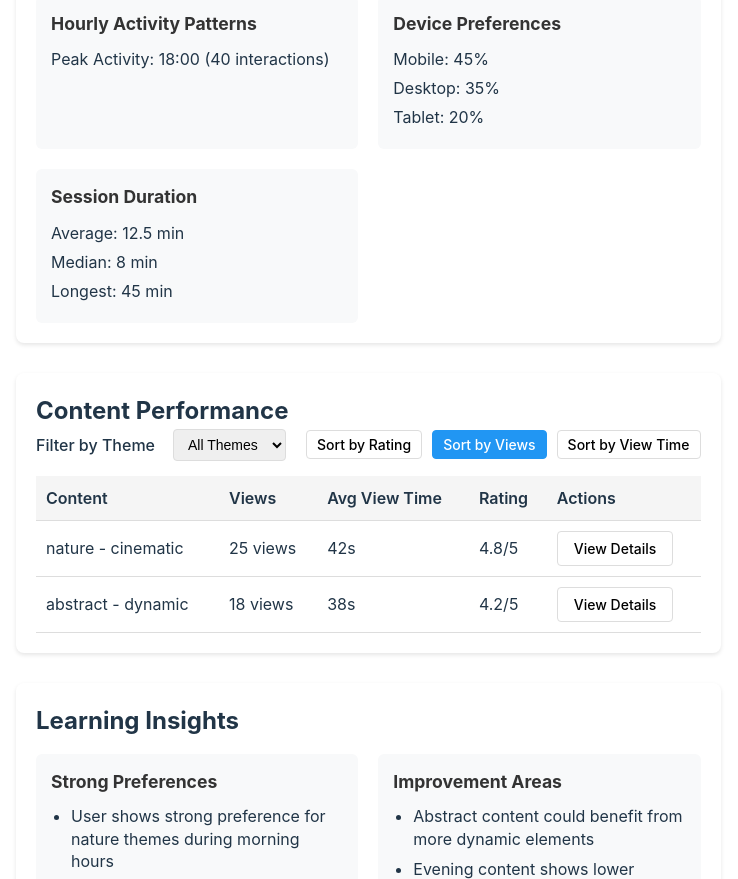
Test: LearningAnalytics Component › Content Performance Analysis › should filter content by theme
The width and height of the screenshot is (738, 879).
(page scrolled)
Select "Nature" in the dropdown labelled "Filter by Theme". click: (230, 445)
box: [173,429,286,461]
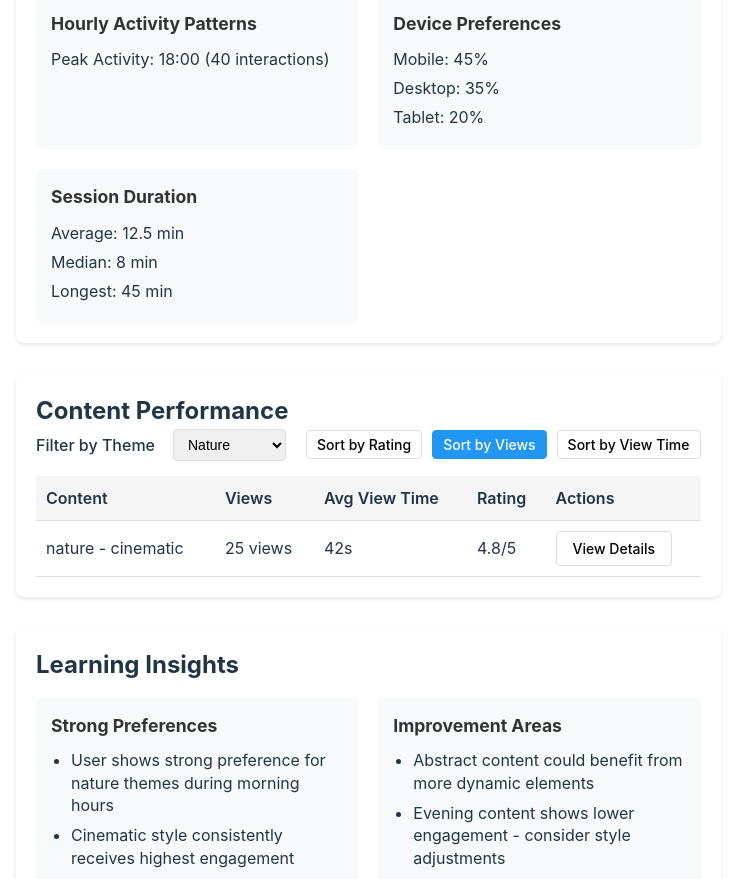
Expected: the text "nature - cinematic" is shown, [36,520,215,576]
Expected: the text "abstract - dynamic" is gone
